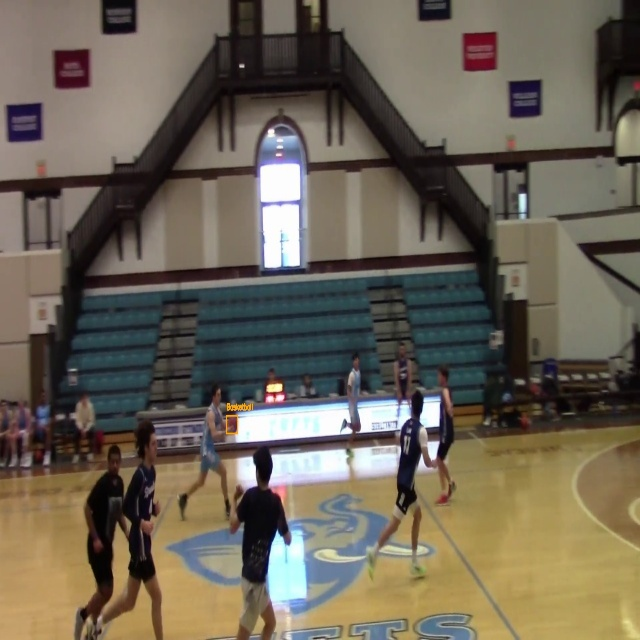Basketball: (227, 416, 238, 433)
